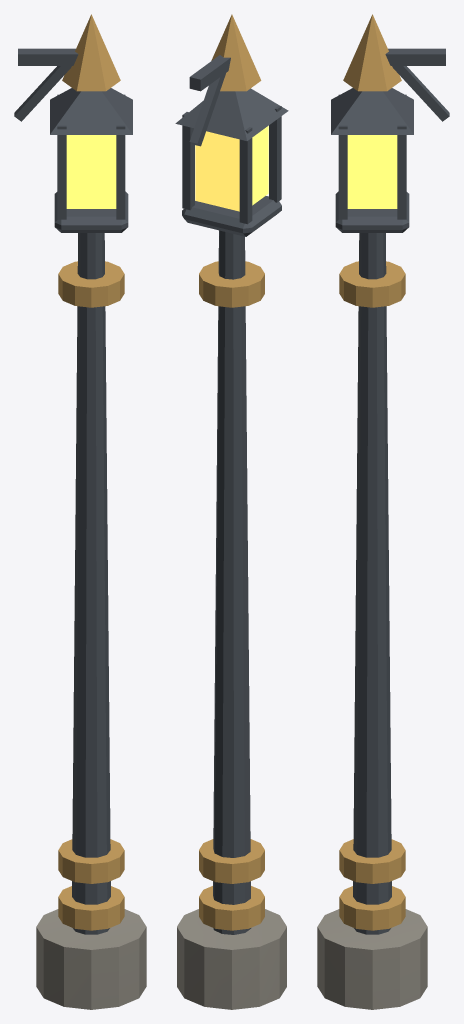
Rendered from streetlamp.glb.
3 renders of one model, left to right at view 1: azimuth 90°, elevation 25°; view 2: azimuth 150°, elevation 25°; view 3: azimuth 270°, elevation 25°, orthographic.
Parts seen in each view (by area): view 1: Structure_HV_iron, Structure_HV_stone0, Structure_HV_brass, Structure_HV_amber_glass; view 2: Structure_HV_iron, Structure_HV_stone0, Structure_HV_brass, Structure_HV_amber_glass; view 3: Structure_HV_iron, Structure_HV_stone0, Structure_HV_brass, Structure_HV_amber_glass.
Part boxes in pixels (x1=…): Structure_HV_iron: x1=14, y1=48, x2=132, y2=934; Structure_HV_stone0: x1=36, y1=909, x2=146, y2=1009; Structure_HV_brass: x1=58, y1=14, x2=124, y2=930; Structure_HV_amber_glass: x1=66, y1=135, x2=116, y2=208; Structure_HV_iron: x1=175, y1=55, x2=288, y2=934; Structure_HV_stone0: x1=177, y1=909, x2=286, y2=1009; Structure_HV_brass: x1=199, y1=14, x2=264, y2=930; Structure_HV_amber_glass: x1=195, y1=126, x2=268, y2=211; Structure_HV_iron: x1=331, y1=48, x2=449, y2=934; Structure_HV_stone0: x1=317, y1=909, x2=427, y2=1009; Structure_HV_brass: x1=339, y1=14, x2=405, y2=930; Structure_HV_amber_glass: x1=347, y1=135, x2=397, y2=208.
Size of the model in its own units: 0.3 by 2.92 by 0.3596.
